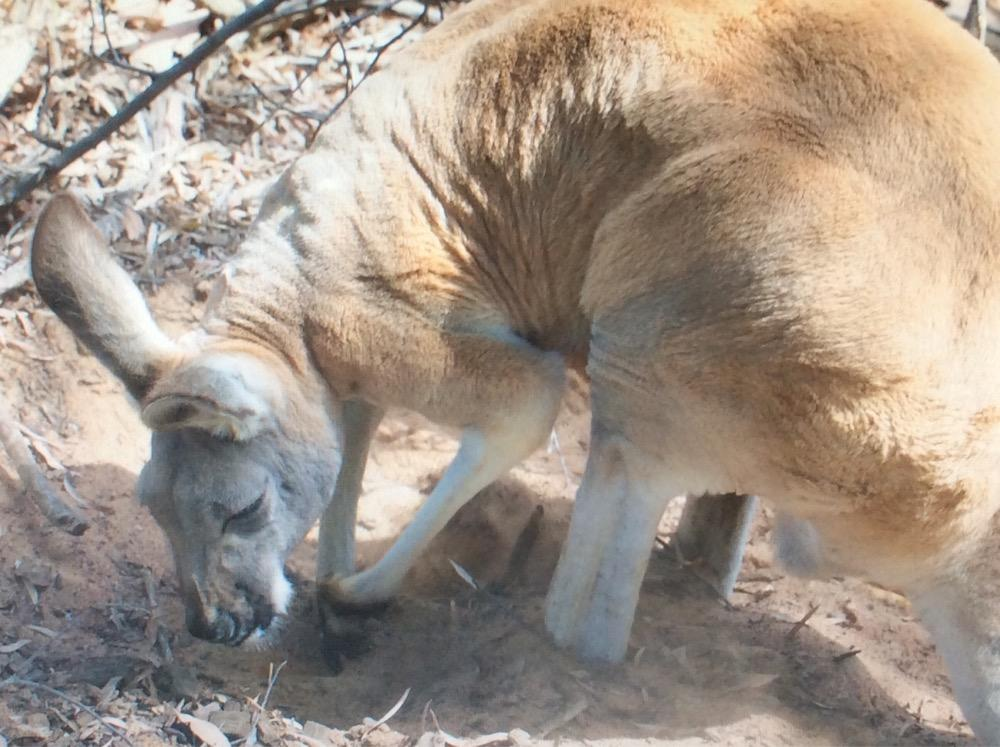Red kangaroo: (31, 0, 1000, 747)
